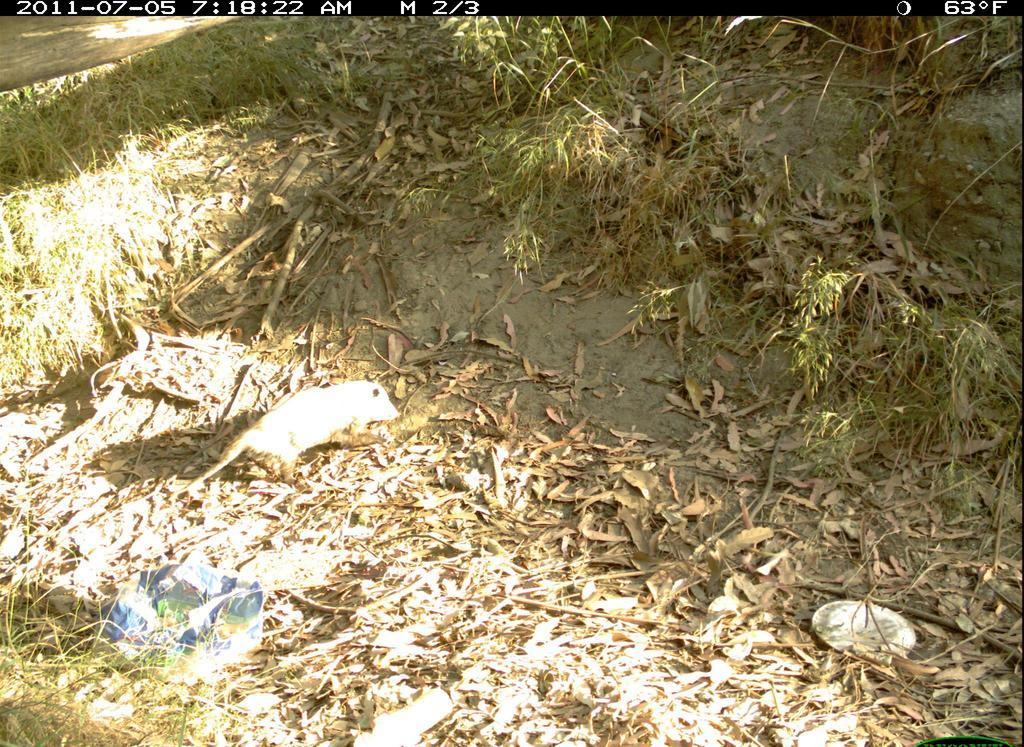opossum: (168, 373, 402, 507)
